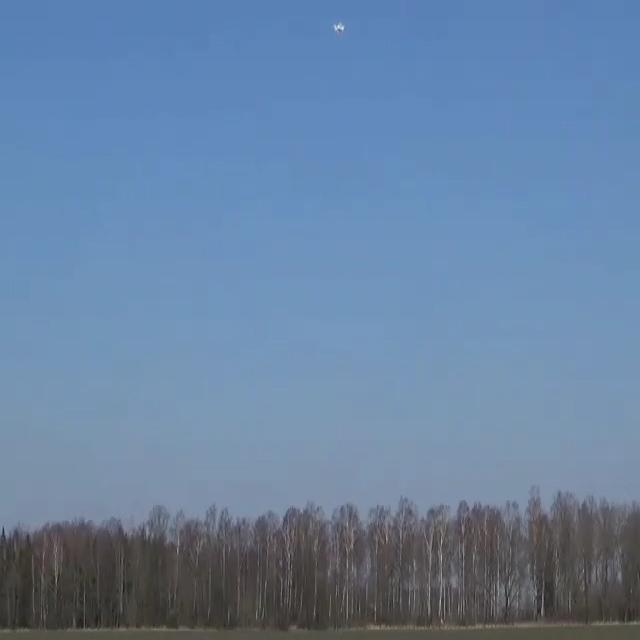drone: (332, 21, 345, 34)
